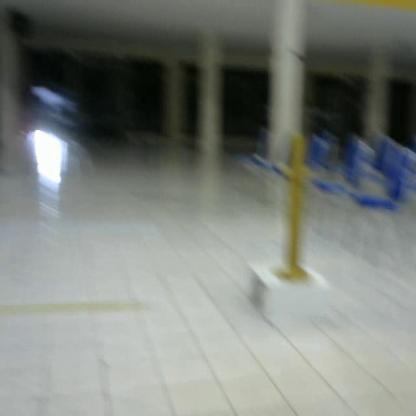pole: (275, 130, 314, 287)
